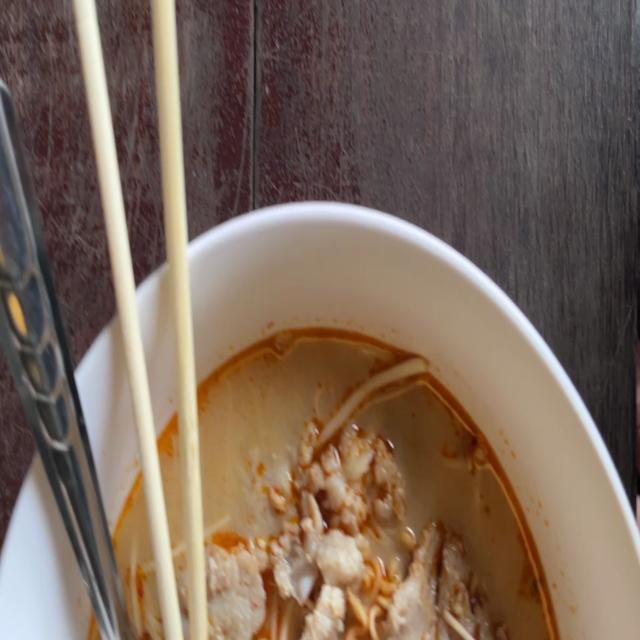noodle: (68, 267, 589, 640)
